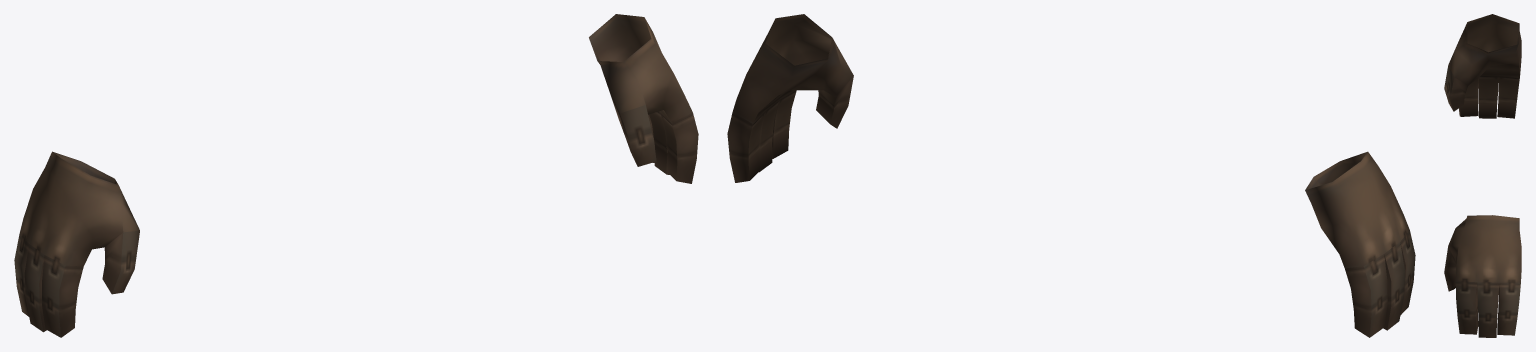
File: hum_forest_01_eff159f1.glb
3 renders of one model, left to right at view 1: azimuth 30°, elevation 25°; view 2: azimuth 150°, elevation 25°; view 3: azimuth 270°, elevation 25°, orthographic. The views are drawn at different scales.
Size of the model in its own units: 1.7 by 0.3987 by 0.2485.
Materials: 1 (1 with a texture image).
